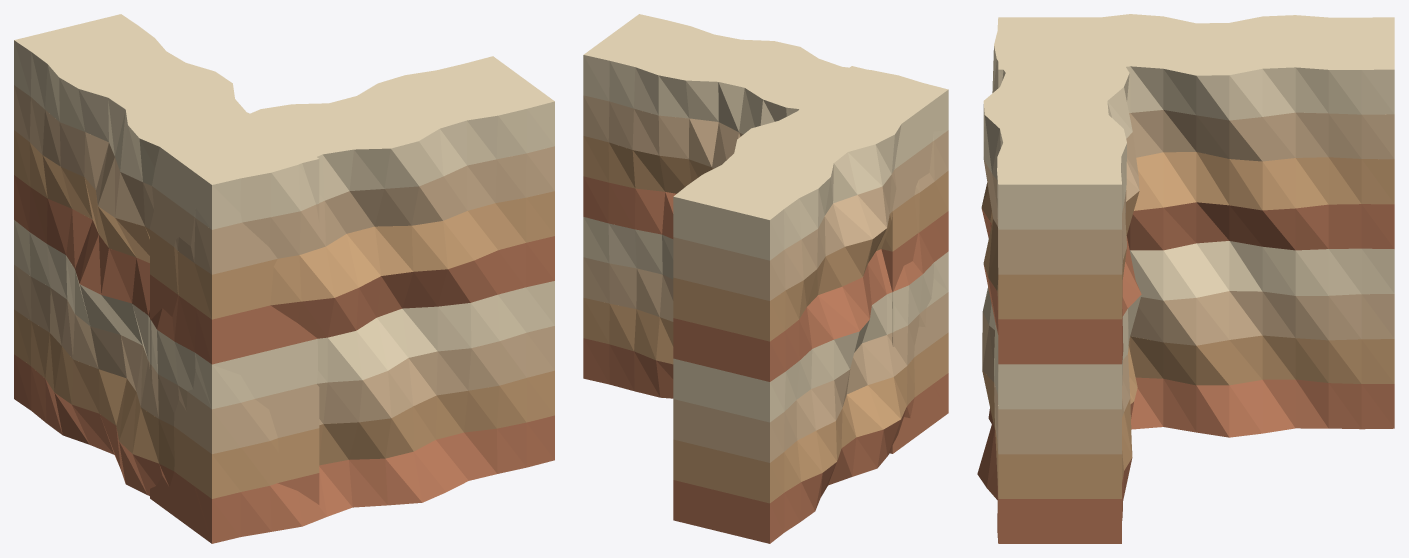
File: desert-canyons-and-oases-canyon-wall-outer-corner-f063bdb1__20906.glb
3 views of the same model, side by side, from view 1: azimuth 30°, elevation 25°; view 2: azimuth 150°, elevation 25°; view 3: azimuth 270°, elevation 25° (orthographic). The views are drawn at different scales.
Parts seen in each view (by area): view 1: canyon-wall-outer-corner; view 2: canyon-wall-outer-corner; view 3: canyon-wall-outer-corner.
Part boxes in pixels (x1=…): canyon-wall-outer-corner: x1=14, y1=14, x2=554, y2=543; canyon-wall-outer-corner: x1=583, y1=14, x2=948, y2=543; canyon-wall-outer-corner: x1=977, y1=14, x2=1394, y2=543.
Size of the model in its own units: 4.2 by 4 by 4.21.
